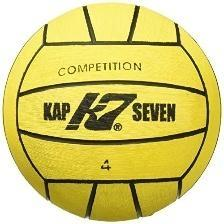Sports-Ball: (4, 1, 220, 221)
